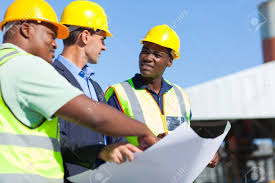helmet: (2, 1, 63, 28), (67, 1, 114, 33), (143, 22, 181, 55)
vest: (1, 47, 61, 183), (113, 81, 194, 164)
